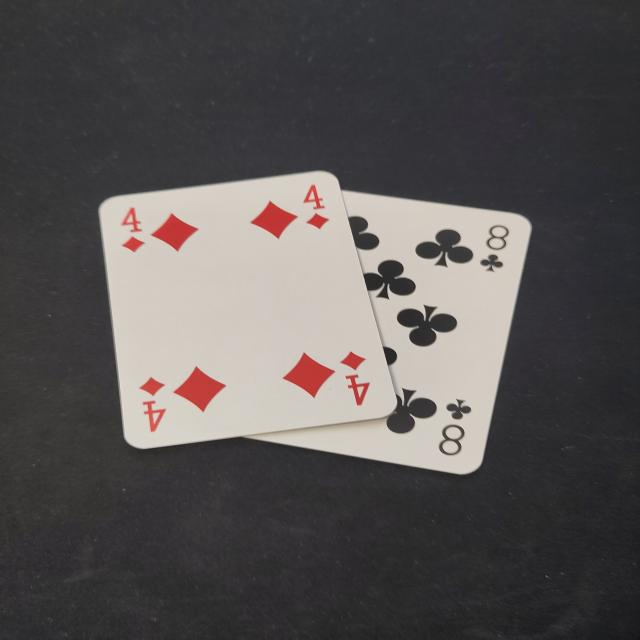4d: (337, 346, 377, 416), (135, 372, 170, 443), (300, 181, 333, 236), (115, 205, 147, 260)
8c: (432, 394, 475, 463), (474, 219, 520, 280)
